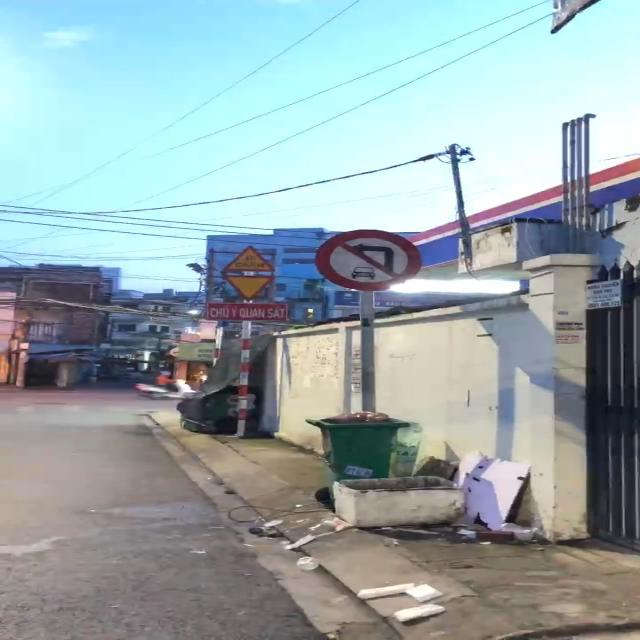Bien bao cam xe o to re trai: (313, 228, 426, 294)
Bien bao di cham: (215, 242, 277, 274)
Bien bao giao nhau voi duong uu tien: (221, 274, 280, 303)
